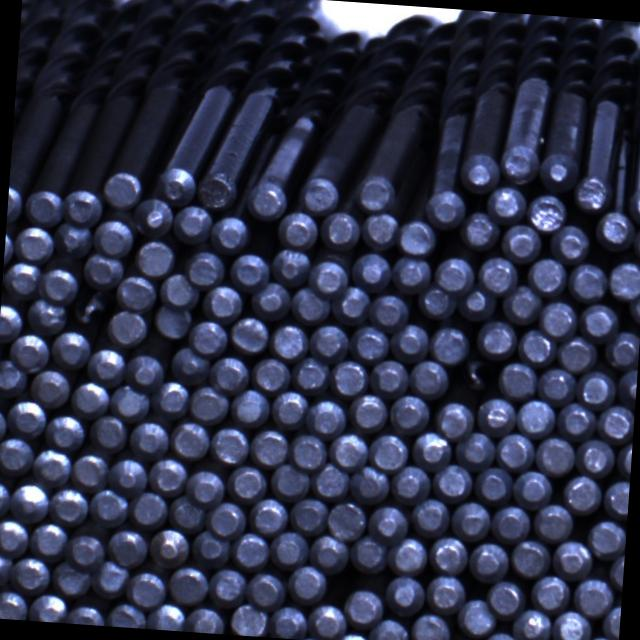tool: (429, 462, 474, 504), (453, 428, 496, 471), (343, 586, 386, 629), (248, 280, 292, 322), (468, 540, 510, 584), (7, 479, 49, 523), (365, 501, 409, 543), (368, 289, 412, 331), (330, 282, 372, 326), (387, 394, 430, 436), (167, 563, 210, 605), (146, 524, 189, 566), (428, 324, 471, 366), (105, 526, 148, 568), (306, 322, 348, 365), (304, 396, 347, 438), (388, 462, 431, 504), (474, 318, 517, 360), (510, 468, 552, 511), (554, 398, 596, 441), (459, 208, 502, 250), (594, 402, 635, 446), (324, 499, 366, 541), (537, 299, 579, 341), (146, 456, 188, 498), (285, 563, 327, 605), (568, 262, 610, 304), (534, 436, 576, 478), (407, 358, 449, 400), (209, 424, 251, 466), (526, 254, 568, 296), (449, 498, 491, 540), (578, 300, 620, 342), (550, 538, 592, 580), (500, 222, 542, 264), (573, 367, 615, 409), (532, 500, 574, 542), (424, 572, 466, 614), (412, 428, 454, 470), (106, 456, 148, 498), (351, 252, 393, 294), (456, 595, 498, 637), (170, 344, 212, 386), (516, 399, 559, 440), (29, 368, 72, 409), (586, 518, 627, 561), (93, 216, 136, 257), (149, 378, 190, 421), (459, 152, 500, 195), (573, 173, 614, 216), (432, 398, 476, 438), (126, 418, 170, 458), (367, 432, 409, 473), (188, 384, 230, 425), (170, 419, 212, 460), (497, 358, 539, 399), (494, 431, 536, 472), (207, 352, 249, 393), (328, 432, 370, 473), (368, 357, 410, 398), (491, 502, 533, 543), (268, 530, 310, 571), (477, 253, 519, 294), (508, 536, 550, 577), (8, 330, 50, 371), (389, 322, 430, 364), (348, 462, 390, 503), (526, 192, 568, 233), (229, 252, 271, 293), (427, 533, 469, 574), (90, 558, 131, 600), (319, 209, 360, 251), (475, 396, 516, 438), (124, 352, 166, 393), (427, 186, 468, 228), (102, 167, 144, 208), (348, 322, 391, 362), (594, 210, 634, 253), (348, 392, 389, 433), (49, 485, 90, 526), (561, 473, 602, 514), (268, 321, 309, 362), (410, 496, 451, 537), (349, 532, 390, 573), (573, 436, 614, 477), (515, 326, 556, 367), (500, 284, 541, 325), (126, 568, 168, 608), (228, 388, 270, 428), (206, 500, 248, 540), (88, 488, 130, 528), (554, 334, 596, 374), (286, 496, 328, 536), (244, 570, 286, 610), (225, 464, 267, 504), (288, 283, 330, 323), (172, 204, 212, 246), (184, 466, 226, 506), (31, 446, 73, 486), (308, 532, 350, 572), (574, 578, 616, 618), (108, 380, 150, 420), (206, 566, 246, 608), (270, 460, 312, 500), (384, 572, 424, 614), (248, 497, 288, 538), (248, 427, 288, 468), (136, 238, 177, 278), (269, 248, 310, 288), (159, 270, 200, 310), (229, 312, 270, 352), (535, 365, 576, 405), (288, 354, 329, 394), (50, 327, 91, 367), (185, 248, 226, 288), (269, 389, 309, 430), (388, 534, 429, 574), (23, 188, 64, 228), (551, 222, 591, 263), (485, 576, 526, 616), (190, 527, 231, 567), (361, 212, 402, 252), (134, 195, 174, 236), (7, 398, 48, 438), (63, 186, 104, 226), (246, 180, 287, 220), (202, 282, 244, 321), (308, 258, 350, 297), (29, 297, 71, 336), (54, 217, 96, 256), (86, 346, 126, 386), (28, 520, 68, 560), (128, 490, 168, 530), (14, 224, 54, 264), (70, 379, 110, 419), (328, 358, 368, 398), (72, 452, 112, 492), (166, 494, 206, 534), (310, 460, 350, 500), (52, 559, 92, 599), (530, 574, 570, 614), (474, 464, 514, 504), (486, 182, 526, 222), (210, 214, 250, 254), (278, 209, 318, 249), (300, 174, 340, 214), (288, 432, 329, 471), (11, 555, 52, 594), (106, 307, 147, 346), (391, 254, 432, 293), (307, 601, 348, 640), (84, 252, 126, 290), (188, 318, 228, 357), (434, 253, 474, 292), (46, 411, 86, 450), (603, 329, 640, 371), (250, 354, 290, 392), (116, 272, 156, 310), (40, 266, 80, 304), (158, 167, 196, 207), (266, 604, 308, 640), (232, 529, 270, 568), (398, 217, 438, 254), (152, 304, 192, 341), (198, 174, 238, 211), (66, 533, 107, 569), (502, 148, 543, 184), (0, 434, 34, 477), (90, 414, 128, 452), (3, 259, 41, 297), (356, 173, 394, 211), (458, 286, 498, 322), (416, 284, 456, 320), (227, 602, 268, 637), (510, 606, 552, 640), (549, 607, 591, 640), (607, 260, 640, 300), (28, 590, 68, 622), (144, 601, 185, 631), (540, 156, 574, 192), (409, 611, 451, 640), (184, 605, 226, 634), (0, 516, 29, 557), (602, 477, 630, 518), (106, 600, 146, 628), (0, 359, 27, 399), (614, 364, 638, 408), (370, 616, 410, 640), (66, 602, 106, 626), (0, 587, 29, 620), (0, 301, 23, 342), (602, 600, 621, 640), (614, 437, 632, 479), (607, 550, 625, 590), (6, 182, 24, 222), (0, 547, 13, 587), (627, 289, 640, 325), (2, 229, 14, 268), (0, 479, 11, 518), (481, 630, 521, 640), (333, 630, 372, 640), (0, 404, 7, 444), (581, 634, 618, 640)
tool_b: (70, 287, 110, 327), (458, 353, 495, 392)
